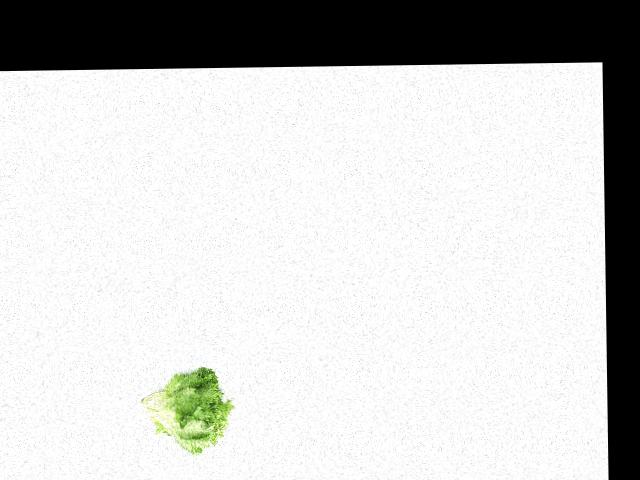lettuce: (139, 365, 232, 458)
